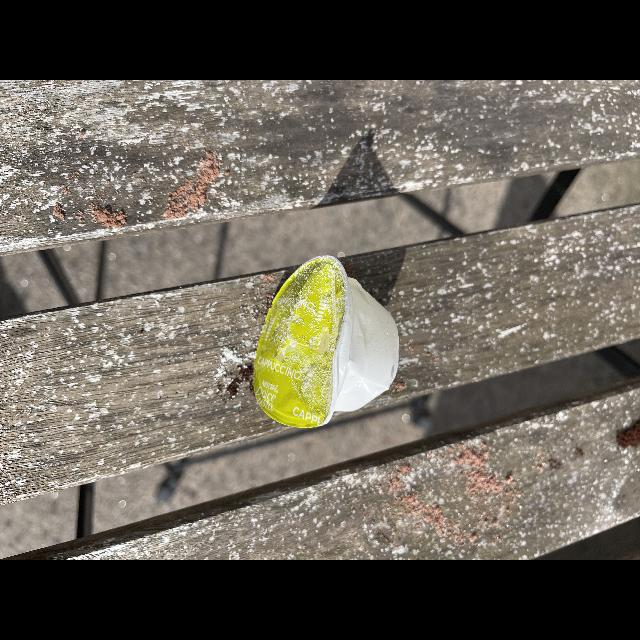damaged_capsule: (236, 240, 408, 436)
